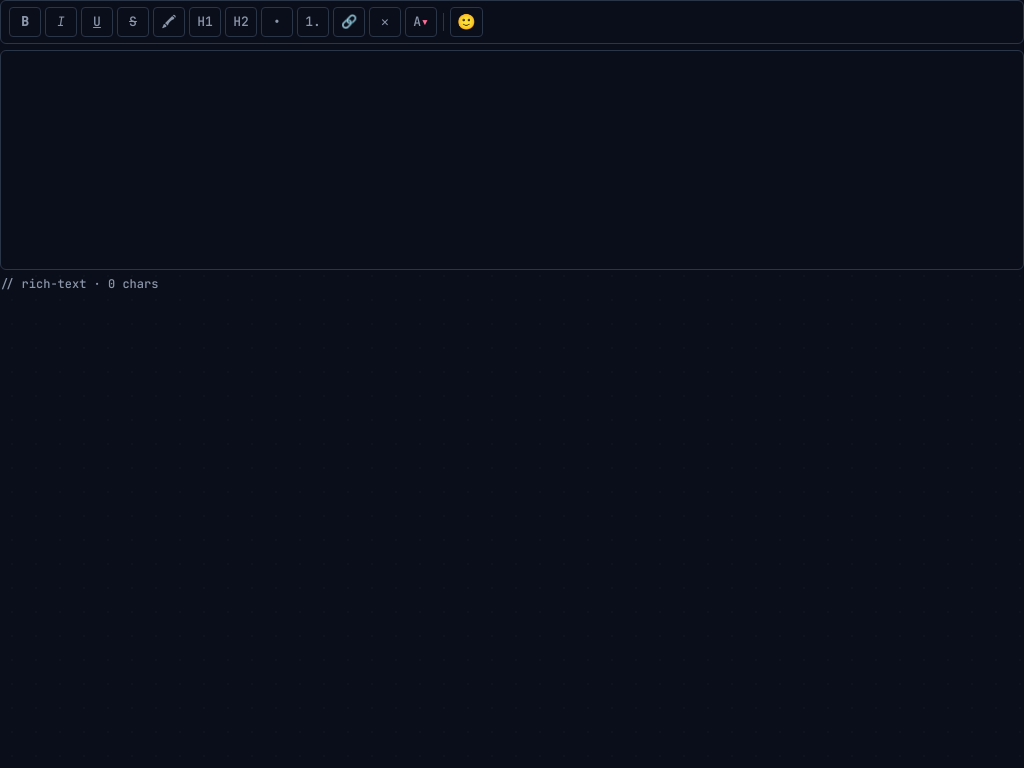
Scenario: RichTextEditor (T-435 — TipTap engine) › emoji picker integration (T-397) › click 🙂 → opens EmojiPicker (aria-expanded true)
Click the button with test id "rte-btn-emoji": (466, 22) [450,7,483,37]
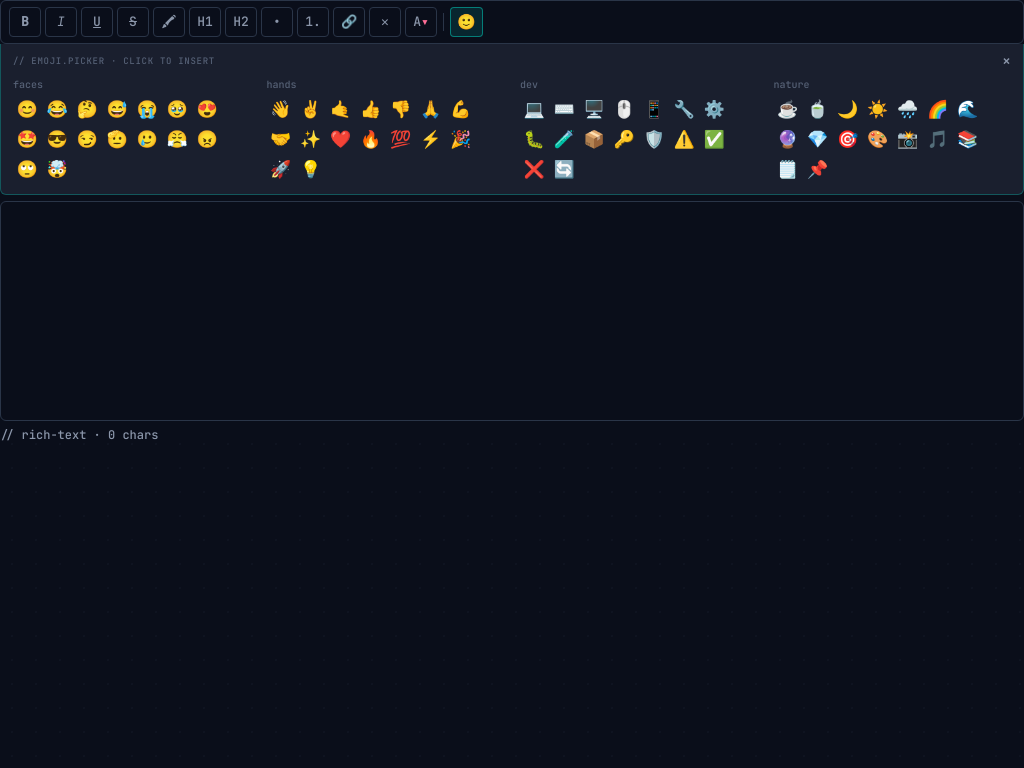
Check: the dialog with test id "emoji-picker" is shown, box [0,44,1023,195]
